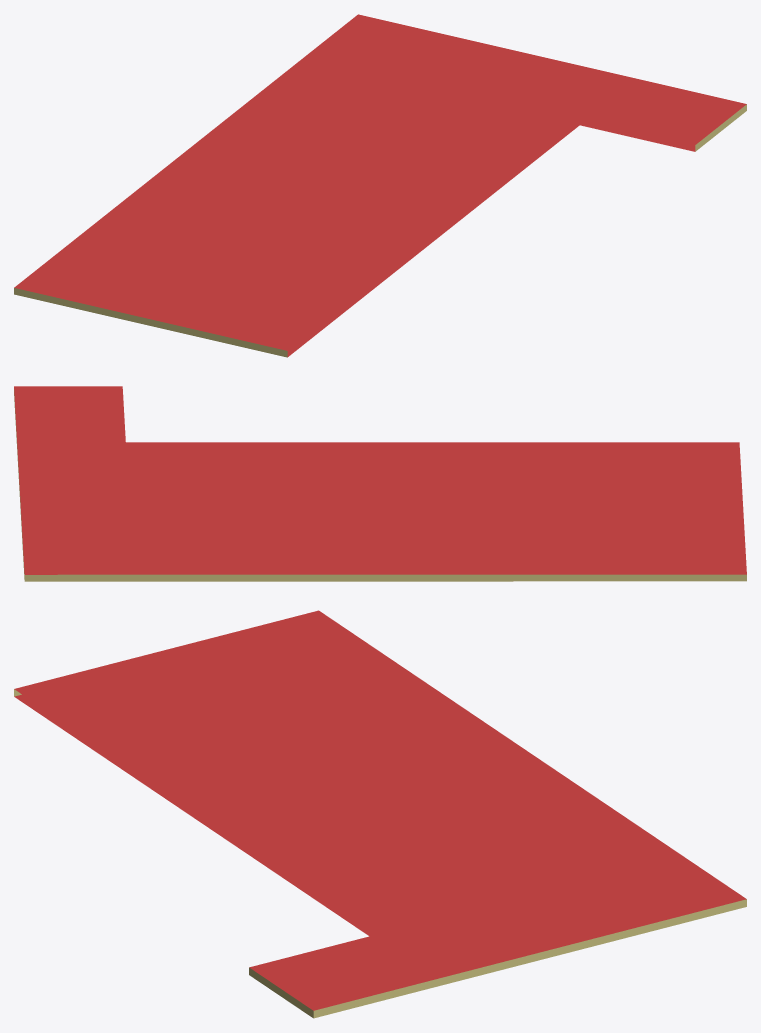
The picture shows the model from 3 angles, top to bottom: view 1: azimuth 30°, elevation 25°; view 2: azimuth 150°, elevation 25°; view 3: azimuth 270°, elevation 25°; orthographic projection. The views are drawn at different scales.
Bounding box in the file's own units: 11.42 × 8.66 × 0.206.
